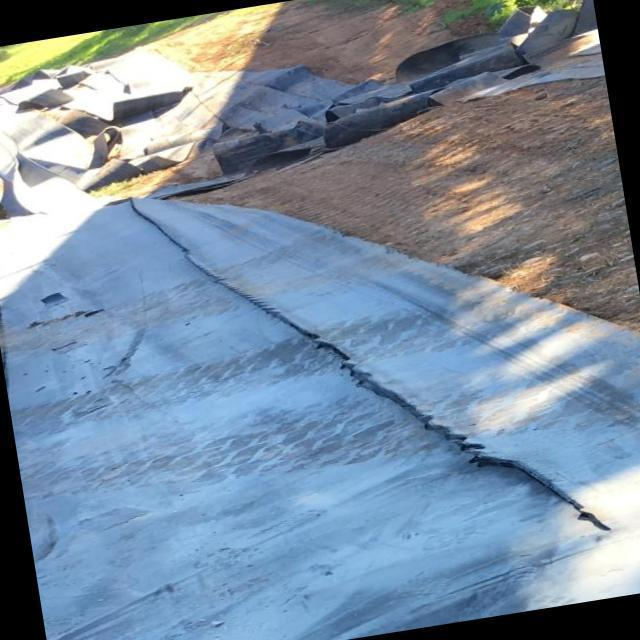Tear: (128, 195, 612, 532)
